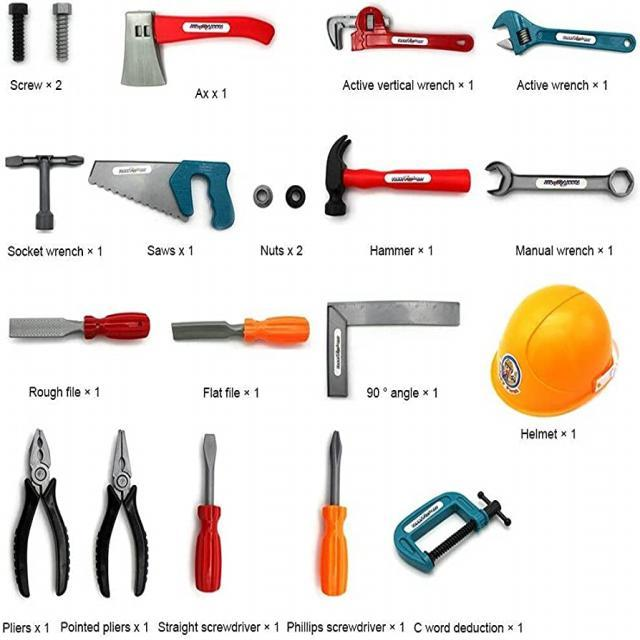hammer: (314, 132, 474, 222)
screwdriver: (314, 420, 352, 596), (192, 421, 228, 594)
